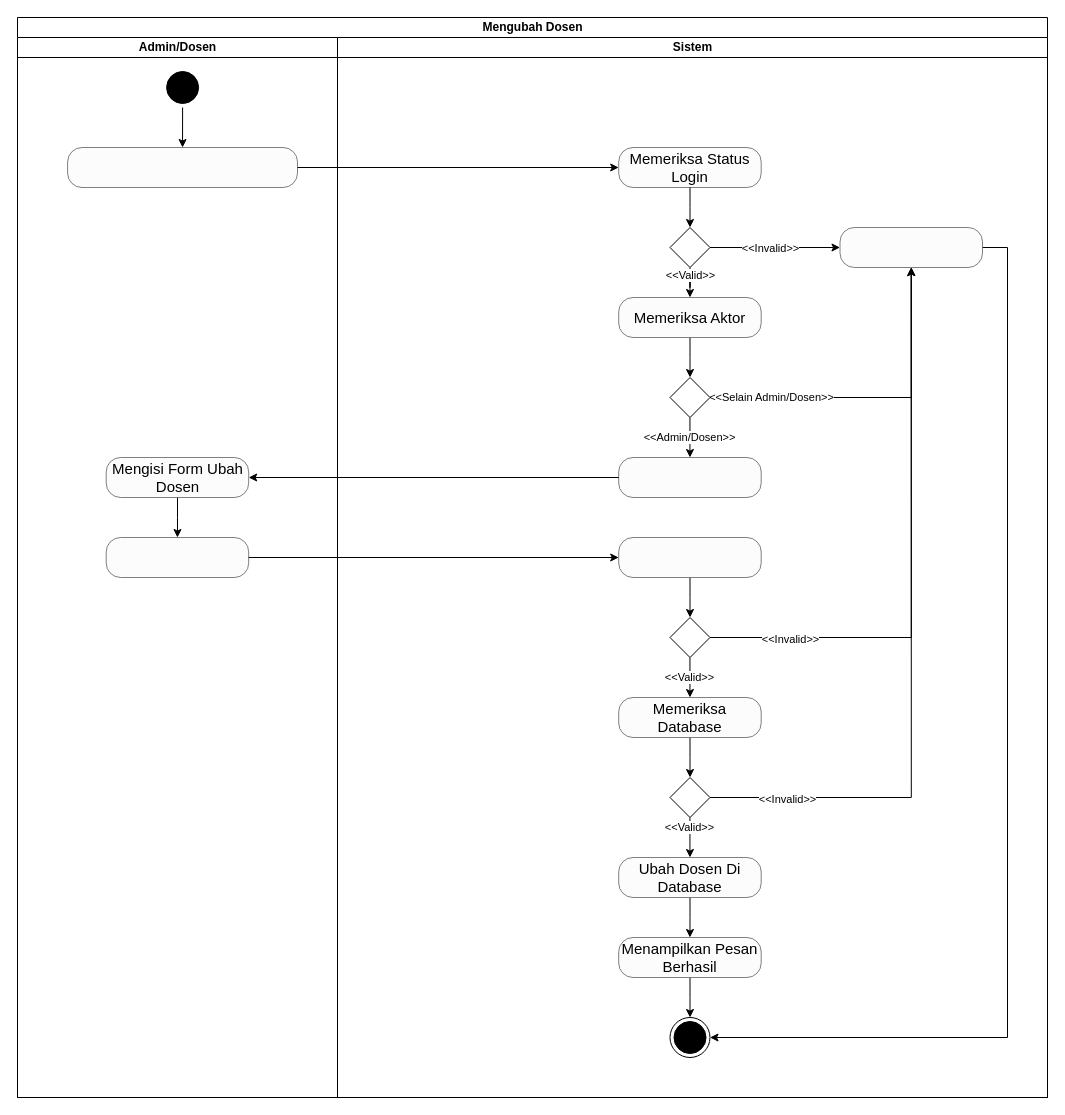
Image size: 1065x1115. Some labels were removed from this diagram. Here are the shapes that lost their labels. From the top down, the centre of each, then its label:
pixel 182 167: Memilih Ubah Dosen
pixel 910 247: Menampilkan Pesan Kesalahan
pixel 689 477: Menampilkan Form Ubah Dosen
pixel 177 557: Memilih Ubah
pixel 689 557: Memeriksa Form UbahDosen
